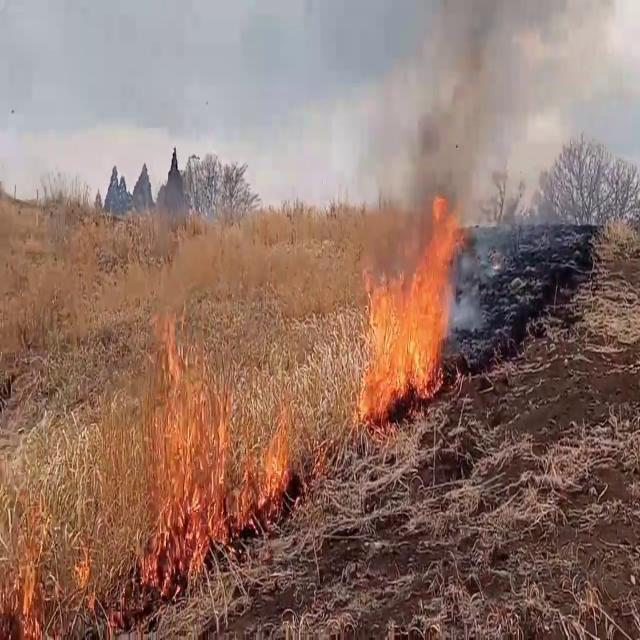Fire: (131, 268, 312, 610), (354, 188, 466, 408)
Smoke: (350, 0, 640, 247)
